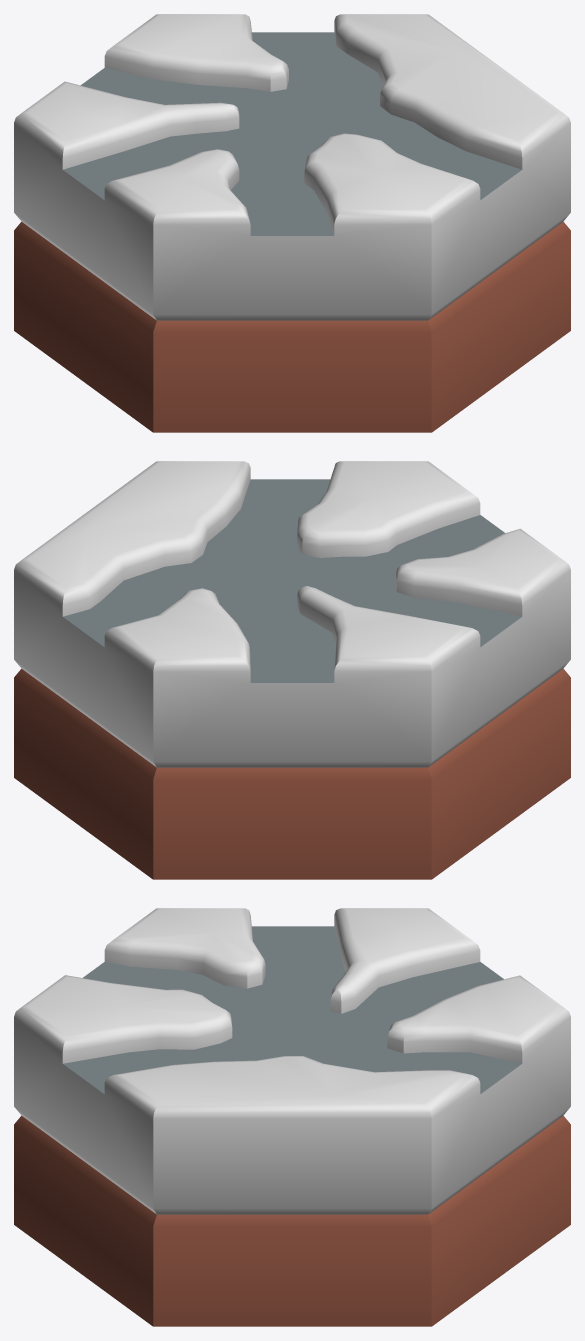
File: hex_snow_roadL_detail.gltf.glb
3 renders of one model, top to bottom at view 1: azimuth 30°, elevation 25°; view 2: azimuth 150°, elevation 25°; view 3: azimuth 270°, elevation 25°, orthographic.
Parts seen in each view (by area): view 1: hex_snow_roadL_detail; view 2: hex_snow_roadL_detail; view 3: hex_snow_roadL_detail.
Part boxes in pixels (left/top/right/bottom): hex_snow_roadL_detail: left=14, top=14, right=570, bottom=432; hex_snow_roadL_detail: left=14, top=461, right=570, bottom=879; hex_snow_roadL_detail: left=14, top=908, right=570, bottom=1326.
Bounding box in the file's own units: 2 × 1 × 2.31.
